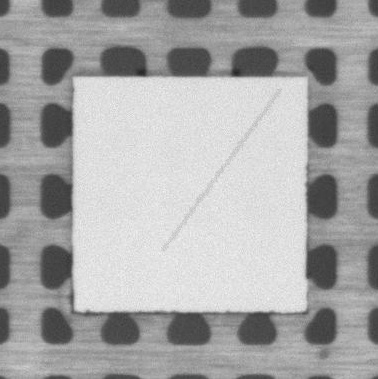DIE_CRACK: (163, 89, 280, 251)
